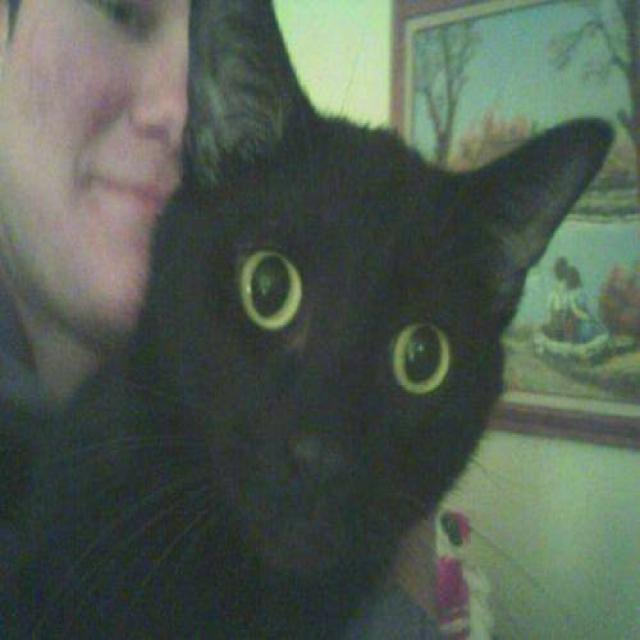Cat: (172, 0, 614, 613)
